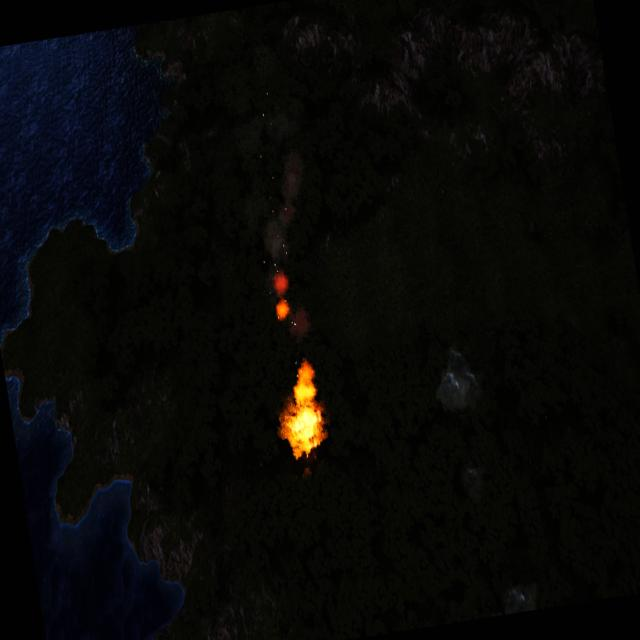fire: (276, 372, 330, 461)
smoke: (246, 146, 334, 362), (430, 344, 485, 421)
